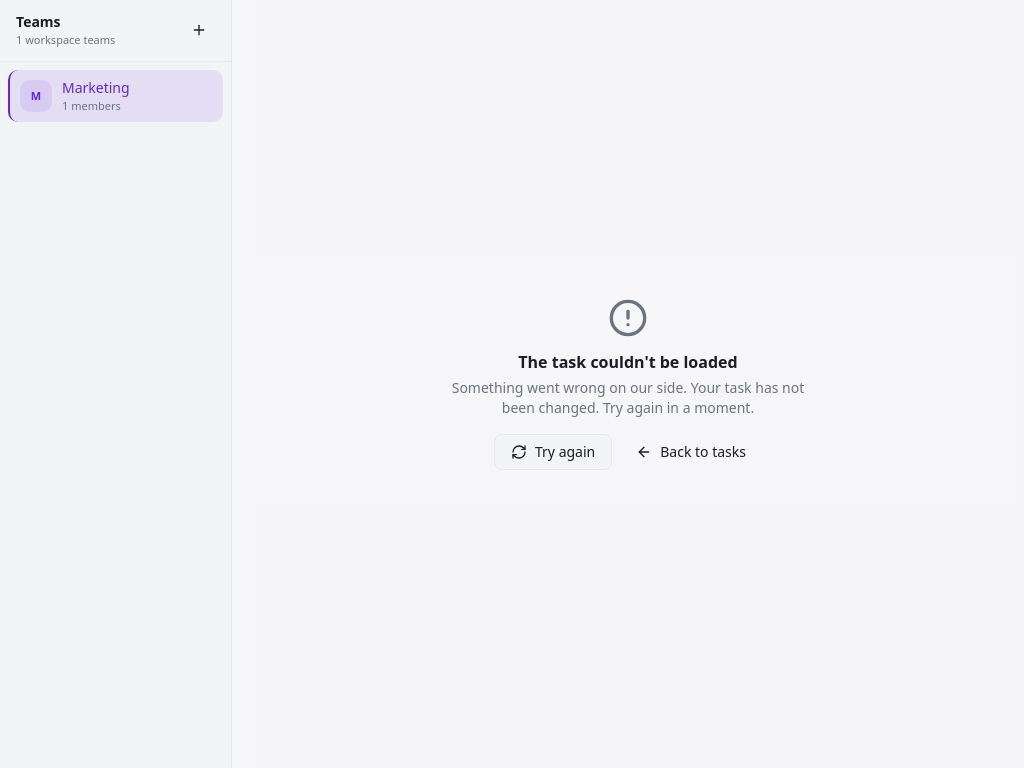
Test: Team task deep link /teams/:teamId/tasks/:taskId › a server failure is explained as such (with Try again that re-requests), not as 'task not available'
Click the button "Try again" at x=553, y=452, box [494,434,612,470]
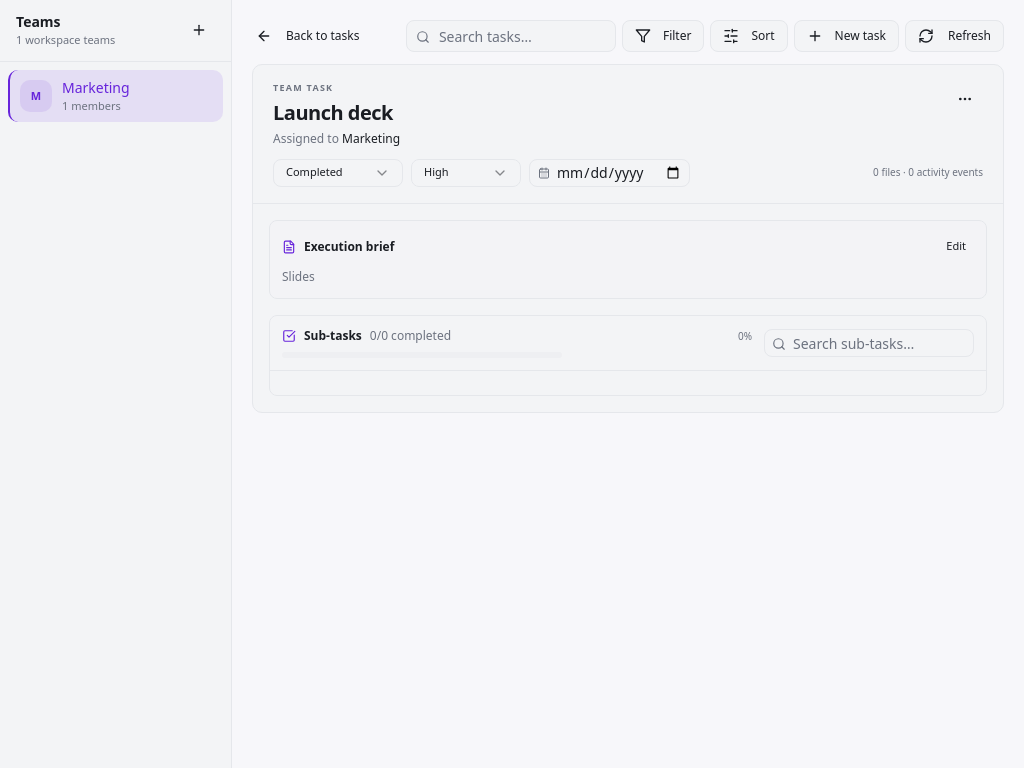
expect the heading "Launch deck" is shown: met, box [273,98,400,126]
